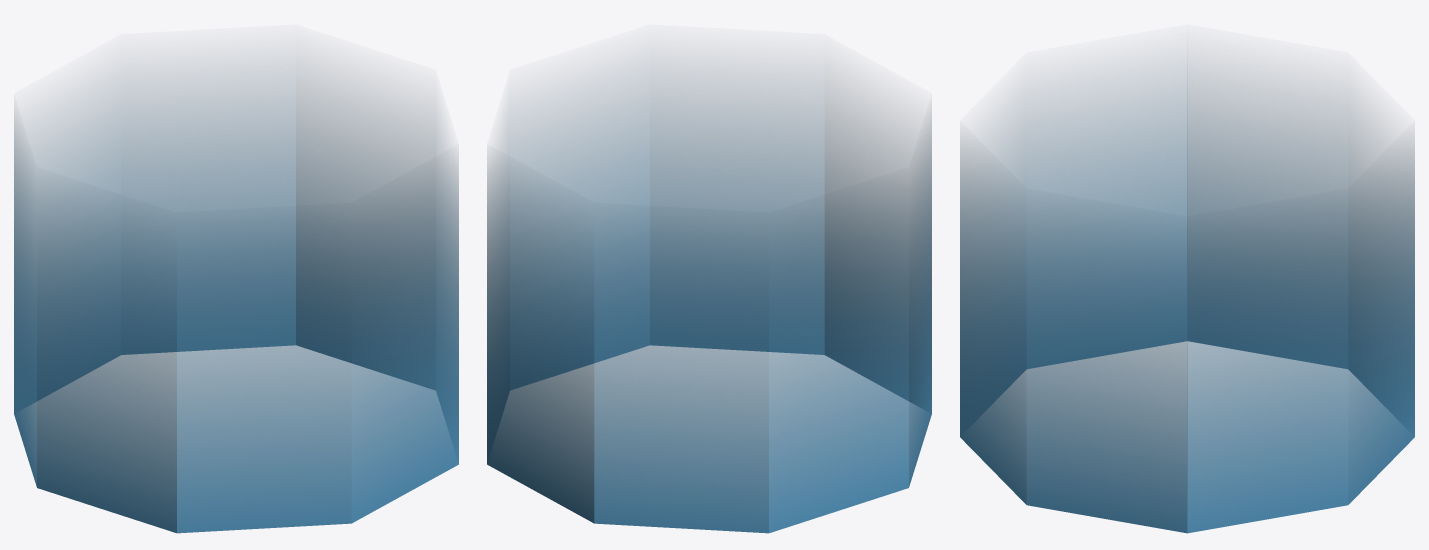
The model's file is SpawnPoint.glb.
3 views of the same model, side by side, from view 1: azimuth 30°, elevation 25°; view 2: azimuth 150°, elevation 25°; view 3: azimuth 270°, elevation 25° (orthographic).
Parts seen in each view (by area): view 1: default; view 2: default; view 3: default.
Boxes of the visible parts, x1,y1,x2,y2 form: default: (14,64,458,533); default: (487,64,931,533); default: (960,52,1414,533).
Bounding box in the file's own units: 1 × 0.8 × 1.
1 material, 1 textured.
